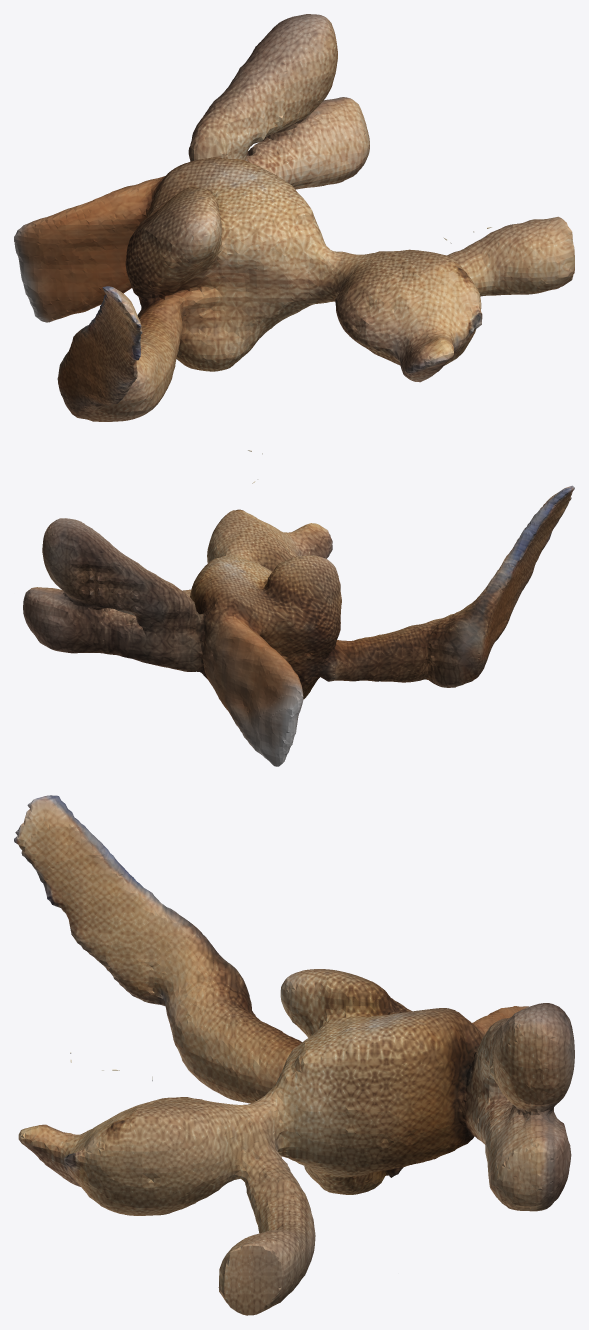
The model's file is rabbit.obj.
3 views of the same model, one above another, from view 1: azimuth 30°, elevation 25°; view 2: azimuth 150°, elevation 25°; view 3: azimuth 270°, elevation 25° (orthographic). The views are drawn at different scales.
Size of the model in its own units: 1.93 by 0.8271 by 1.49.
1 material, 1 textured.
